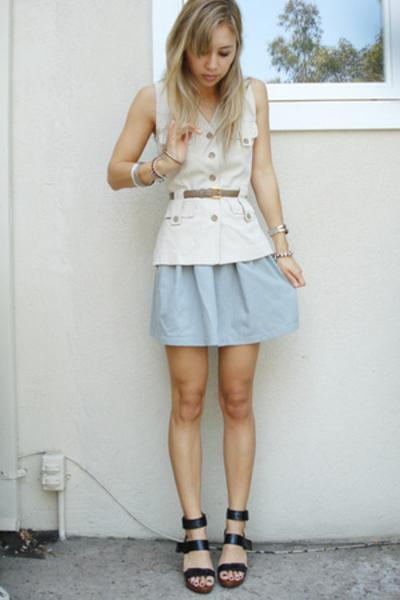shirt: (139, 73, 273, 264)
shoe: (180, 513, 251, 569)
skirt: (141, 258, 296, 345)
